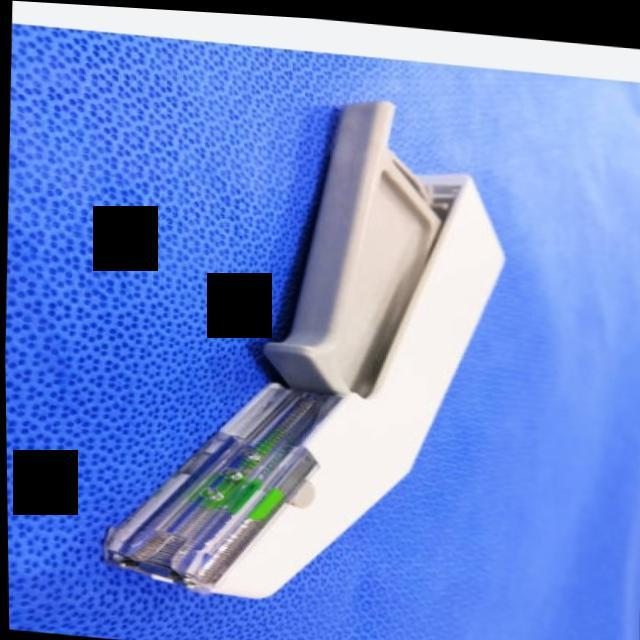Skin Stapler: (86, 66, 518, 614)
